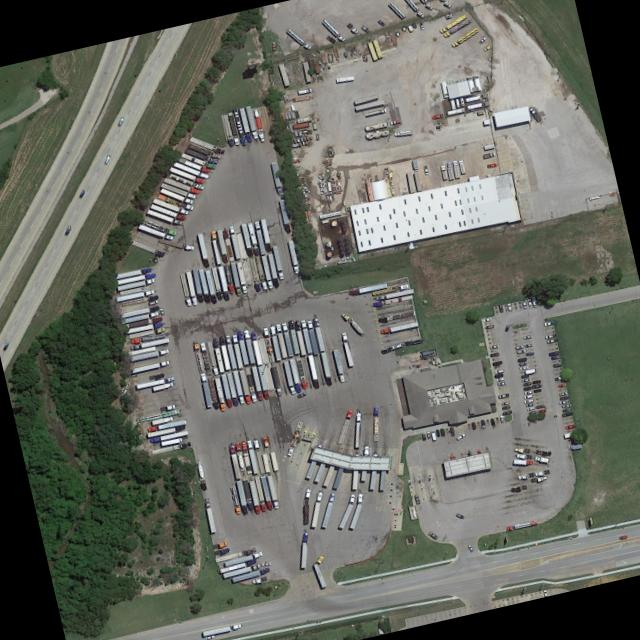large-vehicle: (215, 545, 257, 561), (140, 216, 177, 234), (338, 492, 357, 527), (129, 238, 165, 256), (169, 165, 205, 183), (173, 160, 209, 178), (189, 135, 225, 153), (169, 171, 204, 189), (163, 176, 200, 193), (157, 192, 194, 209), (152, 197, 189, 214), (137, 222, 174, 239), (223, 561, 262, 577), (224, 549, 263, 565), (150, 202, 186, 219), (146, 207, 182, 224), (286, 419, 303, 455), (181, 151, 216, 168), (184, 146, 219, 163), (439, 12, 468, 32), (443, 16, 472, 36), (177, 155, 211, 172), (160, 181, 196, 197), (341, 311, 365, 335), (321, 17, 346, 40), (232, 566, 270, 581), (285, 27, 312, 48), (306, 442, 322, 477), (348, 281, 388, 295), (130, 346, 170, 360), (139, 407, 179, 421), (131, 358, 170, 372), (160, 187, 194, 203), (219, 557, 255, 572), (451, 26, 478, 46), (232, 106, 246, 144), (147, 423, 185, 437), (219, 112, 235, 145), (349, 494, 365, 527), (338, 407, 353, 442), (116, 270, 156, 283), (373, 293, 413, 306), (115, 287, 155, 300), (150, 440, 190, 453), (187, 142, 221, 157), (380, 320, 419, 333), (371, 281, 410, 294), (130, 336, 169, 349), (149, 428, 188, 441), (203, 621, 242, 634), (117, 276, 155, 289), (254, 254, 268, 288), (228, 441, 241, 477), (375, 287, 414, 299), (244, 365, 257, 401), (157, 237, 195, 249), (377, 309, 415, 321), (136, 375, 174, 387), (125, 320, 163, 332), (148, 418, 186, 430), (262, 326, 275, 361), (252, 437, 265, 472), (322, 491, 335, 526), (203, 496, 216, 531), (267, 473, 280, 508), (254, 475, 267, 510), (311, 489, 323, 526), (121, 293, 158, 305), (121, 304, 158, 316), (129, 325, 166, 337), (261, 253, 274, 287), (278, 197, 291, 231), (271, 160, 284, 194), (240, 221, 253, 255), (216, 228, 229, 262), (212, 337, 225, 371), (206, 340, 219, 374), (197, 267, 210, 301), (245, 104, 258, 138), (239, 106, 252, 140), (227, 110, 240, 144), (248, 479, 261, 513), (260, 474, 273, 508), (341, 331, 354, 365), (332, 347, 345, 381), (312, 316, 325, 350), (300, 318, 313, 352), (294, 320, 307, 354), (232, 369, 245, 403), (220, 372, 233, 406), (214, 376, 227, 410), (126, 315, 162, 327), (228, 224, 241, 257), (218, 335, 231, 368), (252, 107, 265, 140), (306, 319, 319, 352), (287, 320, 300, 353), (283, 359, 296, 392), (313, 554, 326, 587), (249, 256, 261, 291), (217, 264, 229, 299), (186, 269, 198, 304), (205, 267, 217, 302), (236, 478, 248, 513), (281, 320, 293, 355), (200, 370, 212, 405), (251, 364, 263, 399), (192, 339, 205, 371), (230, 260, 242, 294), (272, 244, 284, 278), (254, 219, 266, 253), (247, 220, 259, 254), (243, 328, 255, 362), (237, 329, 249, 363), (225, 333, 237, 367), (211, 265, 223, 299), (197, 232, 209, 266), (246, 438, 258, 472), (241, 475, 253, 509), (275, 322, 287, 356), (257, 364, 269, 398), (320, 349, 332, 383), (308, 353, 320, 387), (289, 357, 301, 391), (239, 368, 251, 402), (226, 371, 238, 405), (288, 239, 300, 272), (259, 217, 271, 250), (180, 272, 192, 305), (210, 229, 222, 262), (115, 266, 151, 277), (240, 439, 252, 472), (130, 331, 166, 342), (270, 324, 281, 359), (222, 228, 234, 260), (236, 260, 248, 292), (200, 341, 212, 373), (250, 331, 262, 363), (295, 355, 307, 387), (268, 252, 279, 286), (232, 333, 243, 367), (192, 267, 203, 301), (208, 375, 219, 408), (270, 364, 282, 394), (506, 519, 538, 530), (229, 484, 241, 513), (196, 458, 207, 489), (405, 0, 425, 17), (223, 262, 234, 292), (302, 487, 311, 523), (235, 440, 245, 470), (361, 444, 369, 479), (370, 451, 377, 487), (352, 453, 359, 488), (301, 533, 308, 566), (151, 414, 173, 424), (373, 404, 379, 439), (355, 411, 361, 446), (152, 380, 173, 390), (528, 106, 541, 121), (365, 106, 386, 115), (161, 435, 182, 444), (446, 160, 454, 178), (451, 159, 459, 177), (160, 402, 176, 410), (394, 128, 412, 135), (252, 574, 267, 582), (513, 457, 532, 463), (440, 164, 448, 178), (458, 158, 466, 172), (297, 86, 312, 93), (421, 0, 433, 8), (534, 455, 549, 461), (412, 158, 419, 170), (525, 366, 537, 373), (262, 435, 269, 446), (442, 0, 452, 7)
small-vehicle: (211, 539, 228, 548), (212, 546, 229, 554), (567, 442, 581, 450), (454, 431, 466, 440), (483, 150, 496, 158), (429, 428, 437, 440), (391, 341, 403, 349), (490, 358, 503, 365), (361, 23, 371, 32), (466, 542, 475, 552), (427, 530, 438, 538), (454, 511, 465, 519), (389, 117, 401, 124), (530, 381, 542, 388), (531, 294, 538, 306), (381, 345, 391, 353), (103, 153, 111, 163), (326, 34, 336, 42), (413, 493, 421, 503), (439, 426, 446, 437), (561, 409, 572, 416), (521, 297, 528, 308), (431, 112, 443, 118), (548, 349, 560, 355), (546, 336, 558, 342), (545, 332, 557, 338), (543, 319, 555, 325), (448, 425, 455, 435), (297, 390, 307, 397), (479, 418, 486, 428), (64, 223, 71, 233), (204, 633, 215, 639), (493, 367, 504, 373), (489, 350, 500, 356), (493, 371, 504, 377), (498, 392, 509, 398), (534, 402, 545, 408), (561, 401, 572, 407), (515, 346, 526, 352), (516, 355, 527, 361), (553, 373, 564, 379), (550, 352, 561, 358), (478, 34, 486, 42), (117, 116, 124, 125), (377, 18, 386, 25), (483, 43, 492, 50), (528, 408, 538, 414), (482, 315, 492, 321), (489, 342, 499, 348), (501, 403, 511, 409), (502, 408, 512, 414), (148, 298, 158, 304), (565, 422, 575, 428), (618, 533, 628, 539), (518, 363, 528, 369), (522, 384, 532, 390), (523, 332, 533, 338), (559, 393, 569, 399), (527, 296, 533, 306), (506, 301, 512, 311), (404, 339, 415, 344), (496, 380, 507, 385), (523, 397, 534, 402), (558, 398, 569, 403), (419, 20, 425, 29), (435, 427, 441, 436), (470, 420, 476, 429), (489, 416, 495, 425), (2, 340, 8, 349), (423, 164, 429, 173), (514, 343, 523, 349), (524, 392, 533, 398), (498, 302, 504, 311), (484, 323, 494, 328), (495, 376, 505, 381), (524, 401, 534, 406), (487, 161, 497, 166), (562, 406, 572, 411), (531, 378, 541, 383), (521, 380, 531, 385), (524, 388, 534, 393), (503, 323, 510, 330), (425, 430, 431, 438), (158, 306, 164, 314), (79, 188, 85, 196), (538, 407, 546, 413), (526, 404, 534, 410), (499, 413, 504, 422), (525, 350, 534, 355), (520, 372, 529, 377), (532, 387, 541, 392), (524, 341, 533, 346), (558, 381, 567, 386), (261, 560, 271, 564), (501, 399, 509, 404), (521, 376, 529, 381), (558, 390, 568, 394), (552, 362, 562, 366), (414, 337, 423, 341), (518, 360, 527, 364), (542, 588, 547, 595), (271, 43, 276, 49)
storage-tank: (325, 238, 332, 246), (325, 250, 333, 256), (330, 219, 338, 225), (345, 242, 352, 248), (345, 247, 352, 253), (337, 235, 344, 241), (339, 243, 346, 249), (344, 233, 350, 239), (338, 240, 345, 245), (344, 238, 350, 243), (340, 248, 346, 253), (342, 226, 347, 230), (341, 221, 346, 225), (340, 218, 345, 222)
